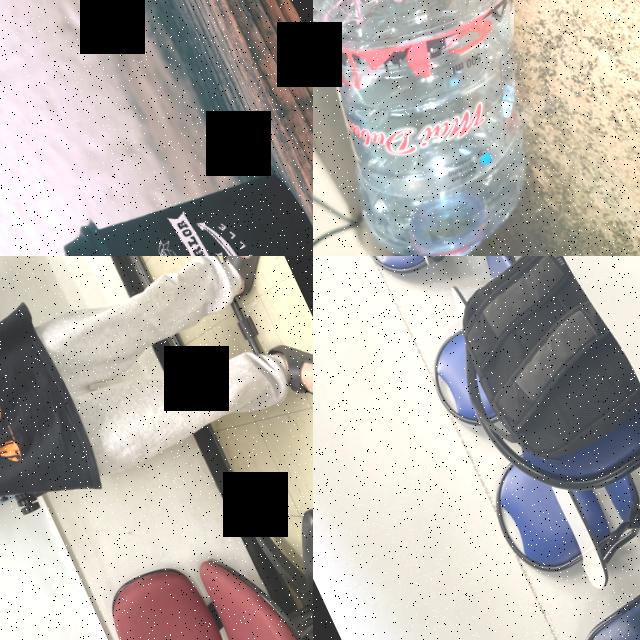bottle: (313, 0, 640, 256)
cup: (52, 133, 313, 256)
